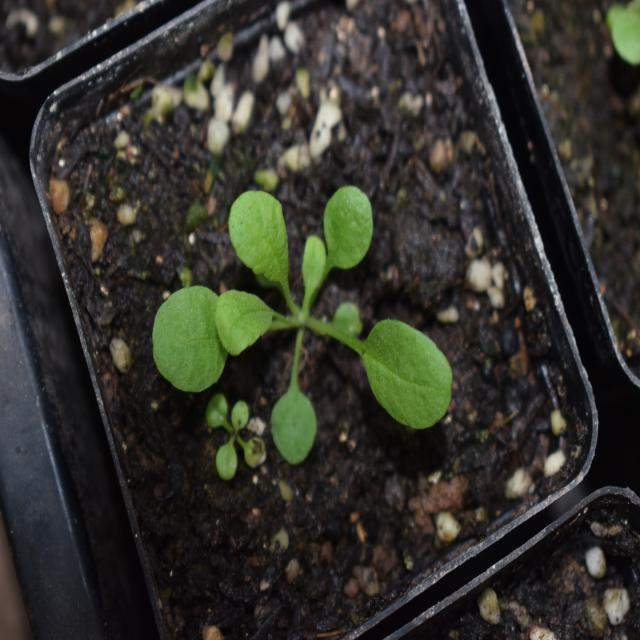Shepherd_Purse: (147, 172, 445, 469)
